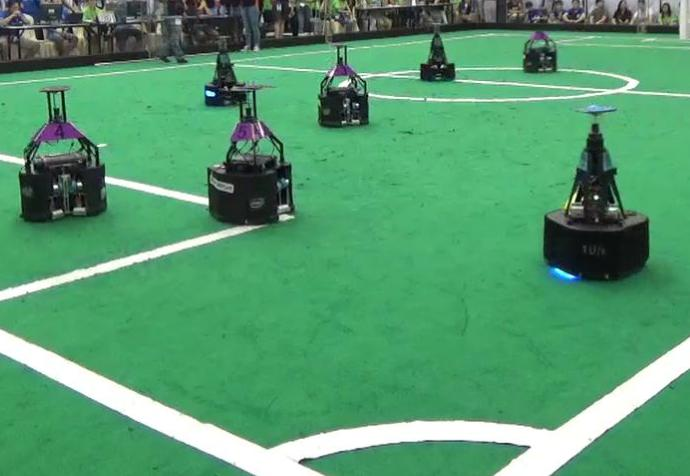robot: (540, 98, 653, 282), (202, 80, 302, 226), (16, 82, 110, 223), (313, 42, 373, 129), (198, 33, 248, 108), (416, 19, 460, 84), (519, 14, 559, 74)
